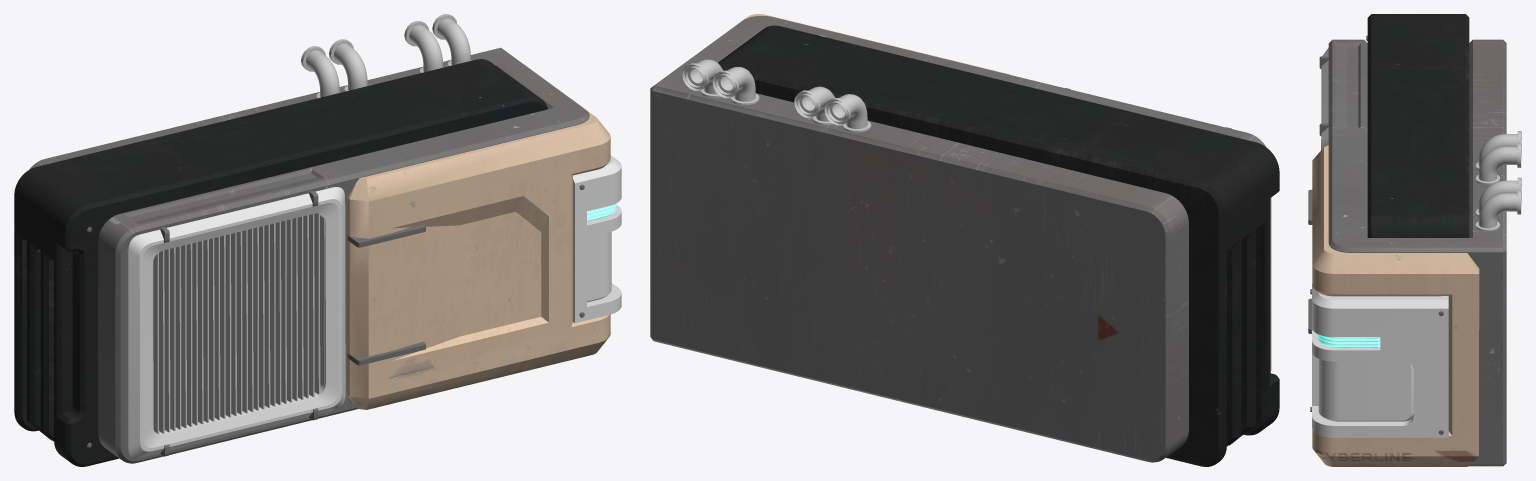
File: KB3D_CBP_UtilityDevice_E.fbx
3 views of the same model, side by side, from view 1: azimuth 30°, elevation 25°; view 2: azimuth 150°, elevation 25°; view 3: azimuth 270°, elevation 25° (orthographic). The views are drawn at different scales.
Visible parts, largest first — view 1: KB3D_CBP_UtilityDevice_E_Main; view 2: KB3D_CBP_UtilityDevice_E_Main; view 3: KB3D_CBP_UtilityDevice_E_Main.
Boxes of the visible parts, left/top/right/bottom form: KB3D_CBP_UtilityDevice_E_Main: left=14, top=14, right=621, bottom=466; KB3D_CBP_UtilityDevice_E_Main: left=650, top=14, right=1279, bottom=466; KB3D_CBP_UtilityDevice_E_Main: left=1308, top=14, right=1521, bottom=466.
Bounding box in the file's own units: 177 × 90.69 × 66.26.
